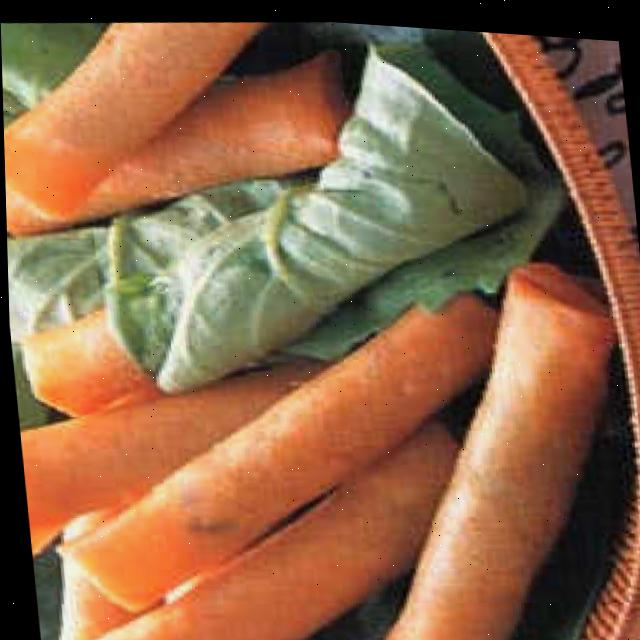鸡蛋料理: (5, 217, 640, 640)
